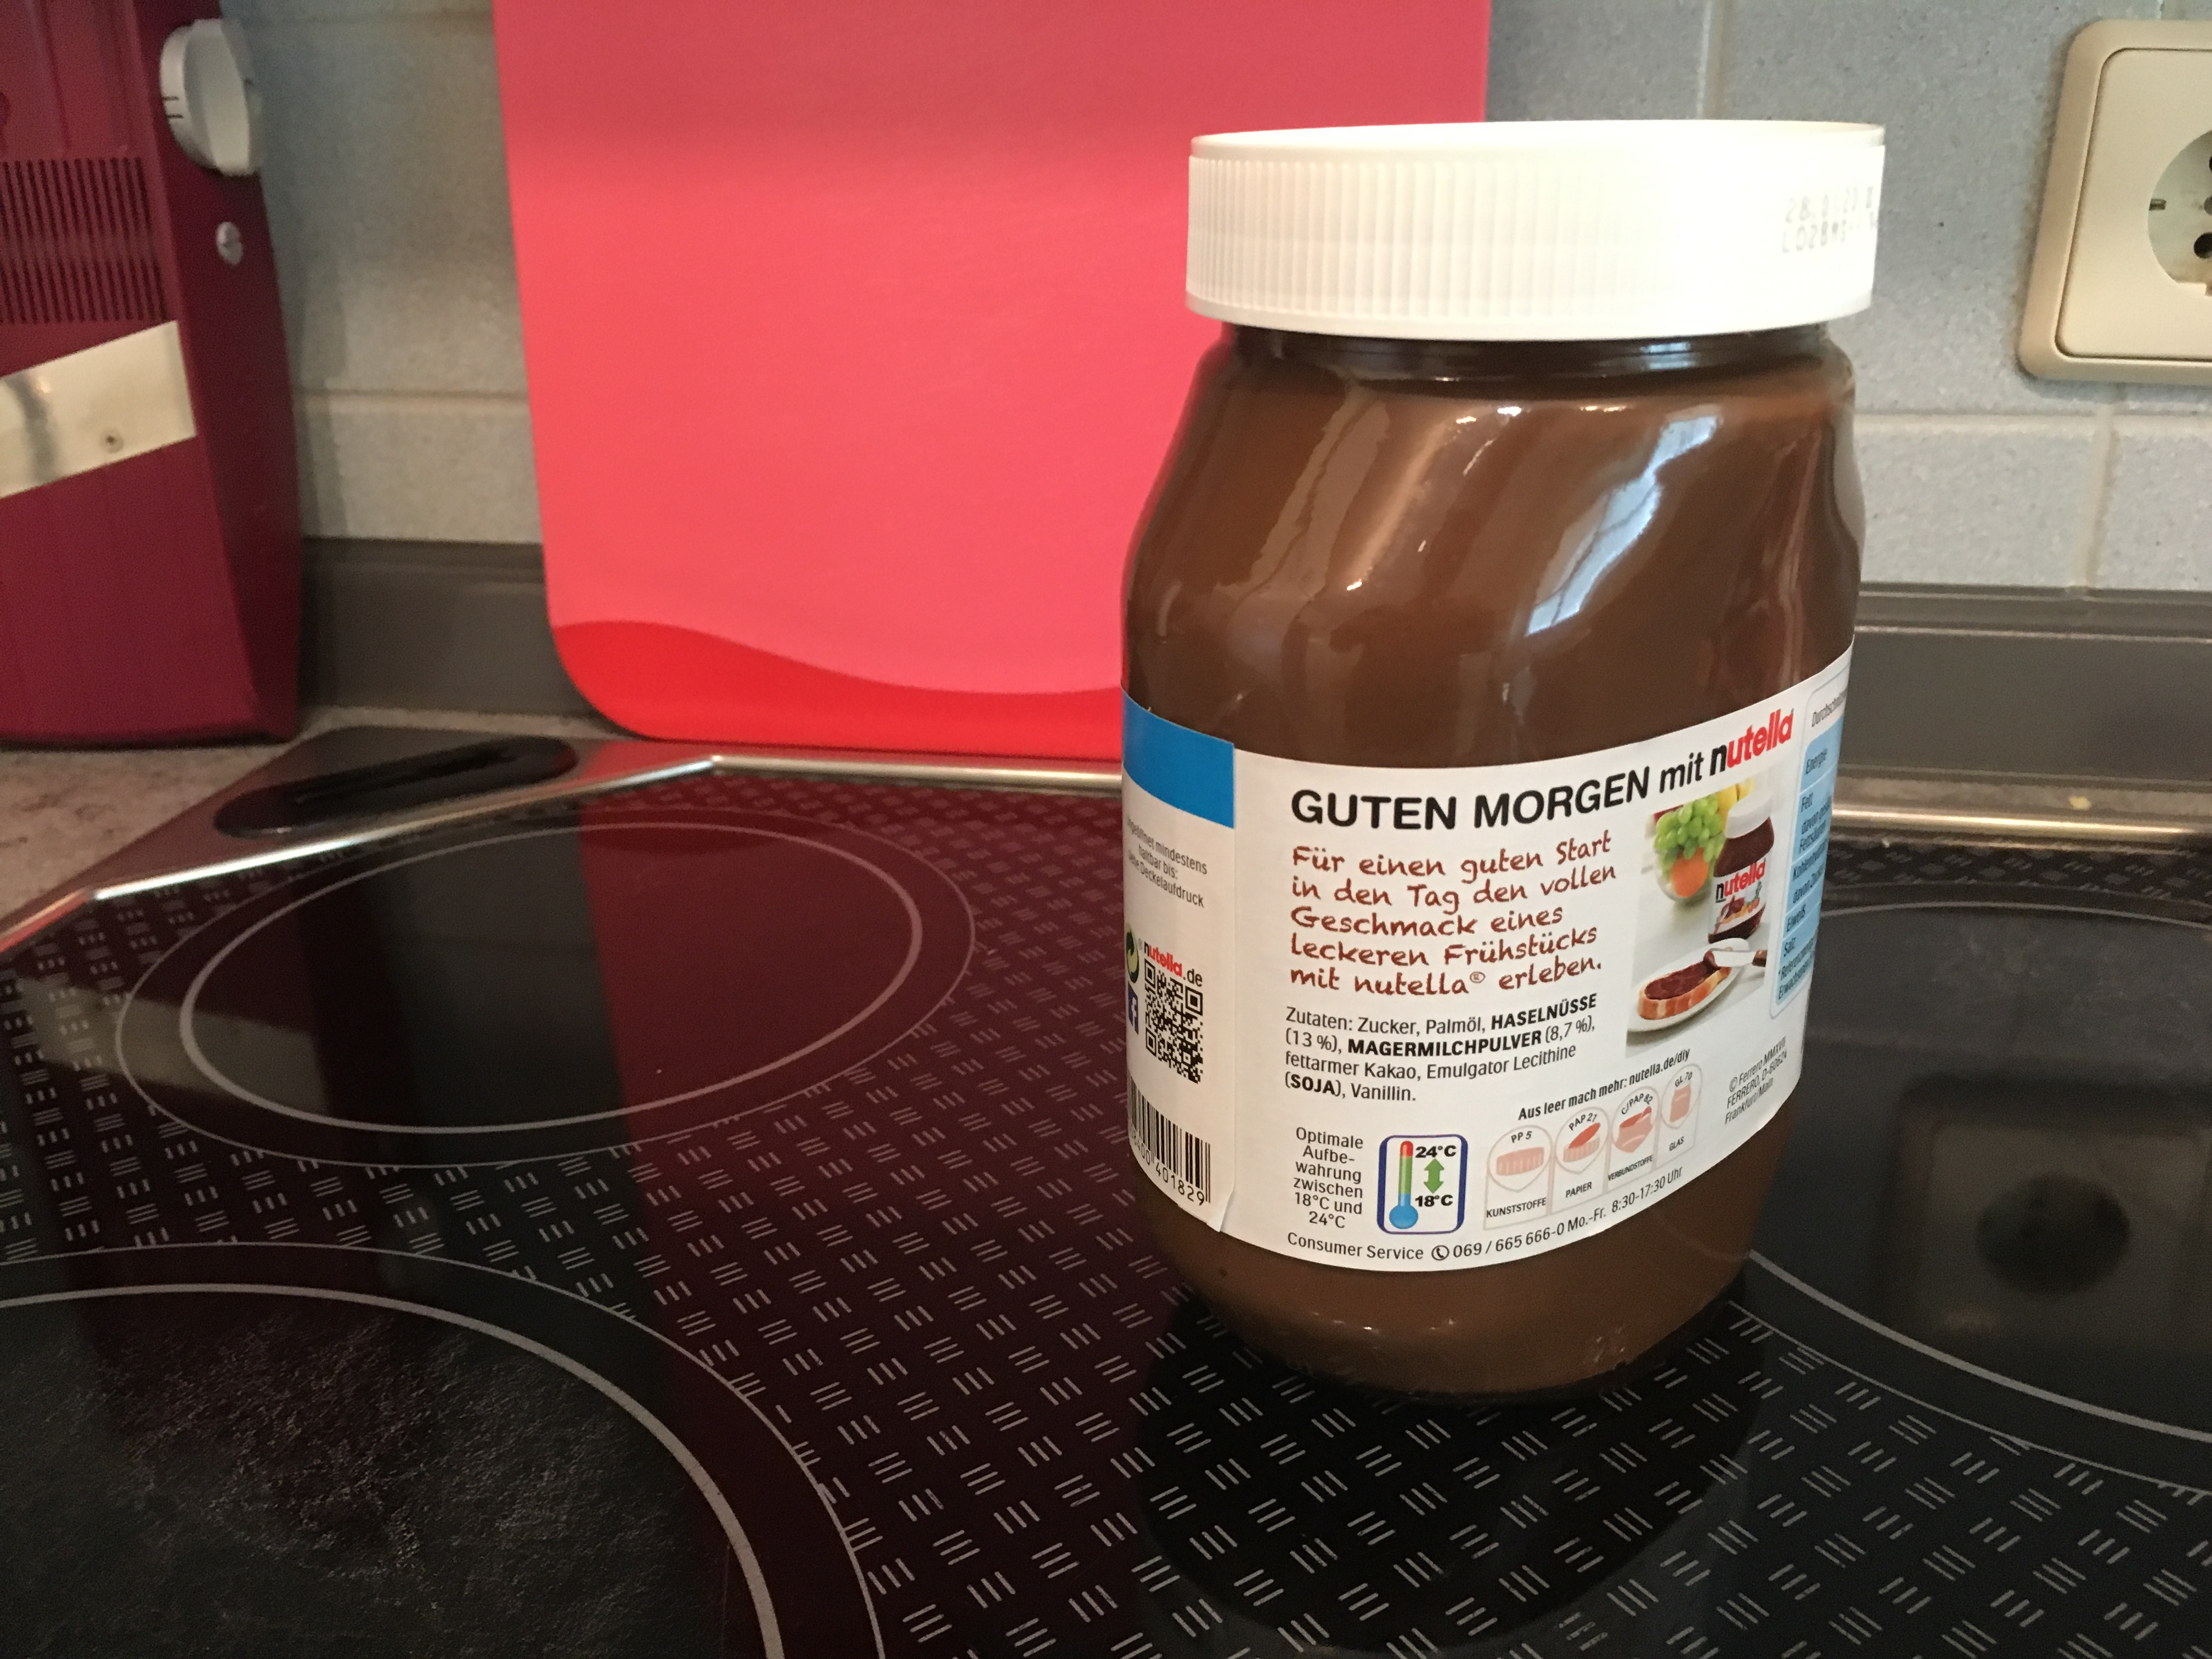nutella: (1120, 115, 1886, 1412)
